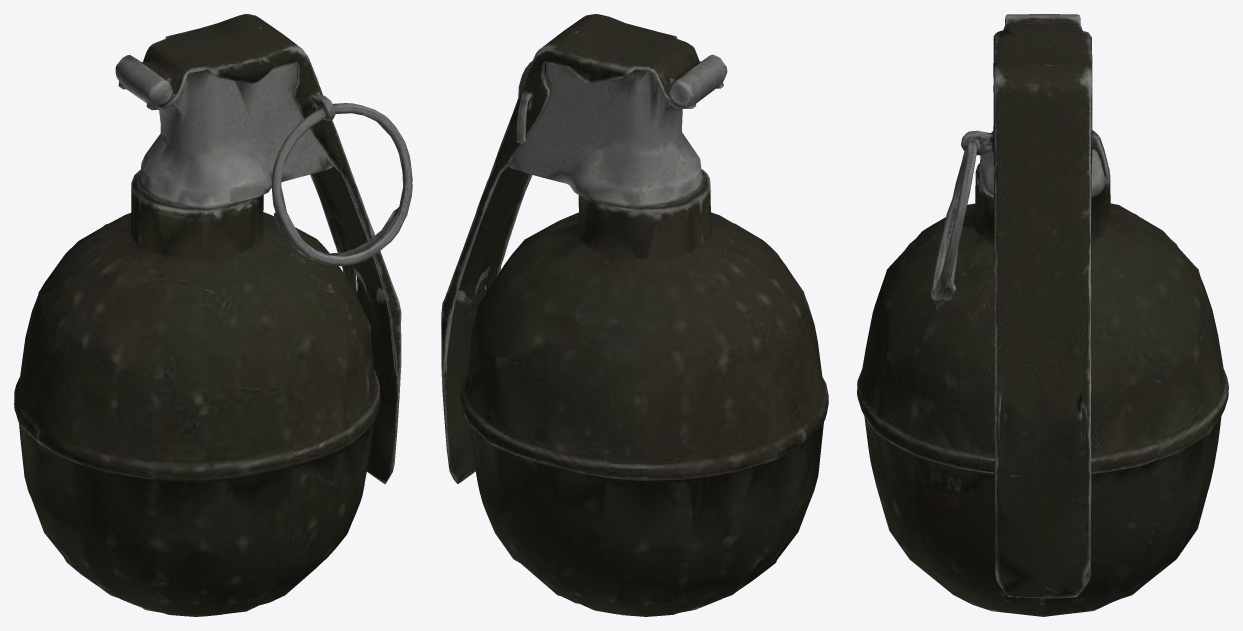
The model's file is grenade.glb.
3 views of the same model, side by side, from view 1: azimuth 30°, elevation 25°; view 2: azimuth 150°, elevation 25°; view 3: azimuth 270°, elevation 25° (orthographic). The views are drawn at different scales.
Bounding box in the file's own units: 0.9883 × 1.54 × 0.9117.
1 material, 1 textured.
